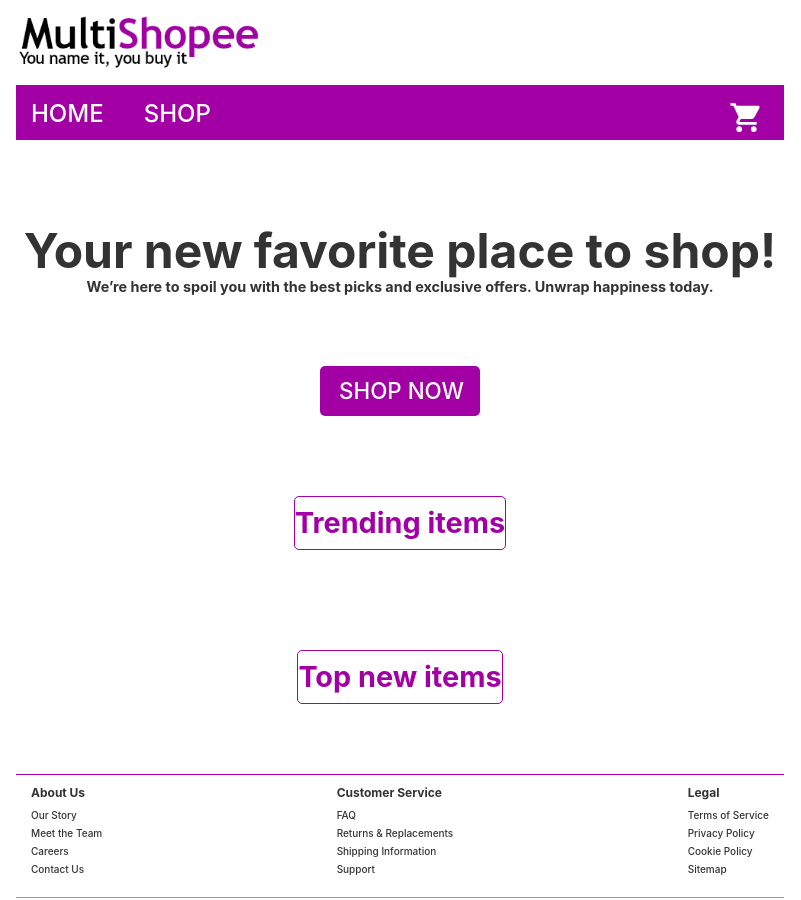
Test: Navbar component › Loads Shop component after click on the Shop button
The width and height of the screenshot is (801, 900).
// Simulate a click on the Shop button
Click the link with aria-label "Go to Shop Page" at x=177, y=114, box [144,99,211,128]
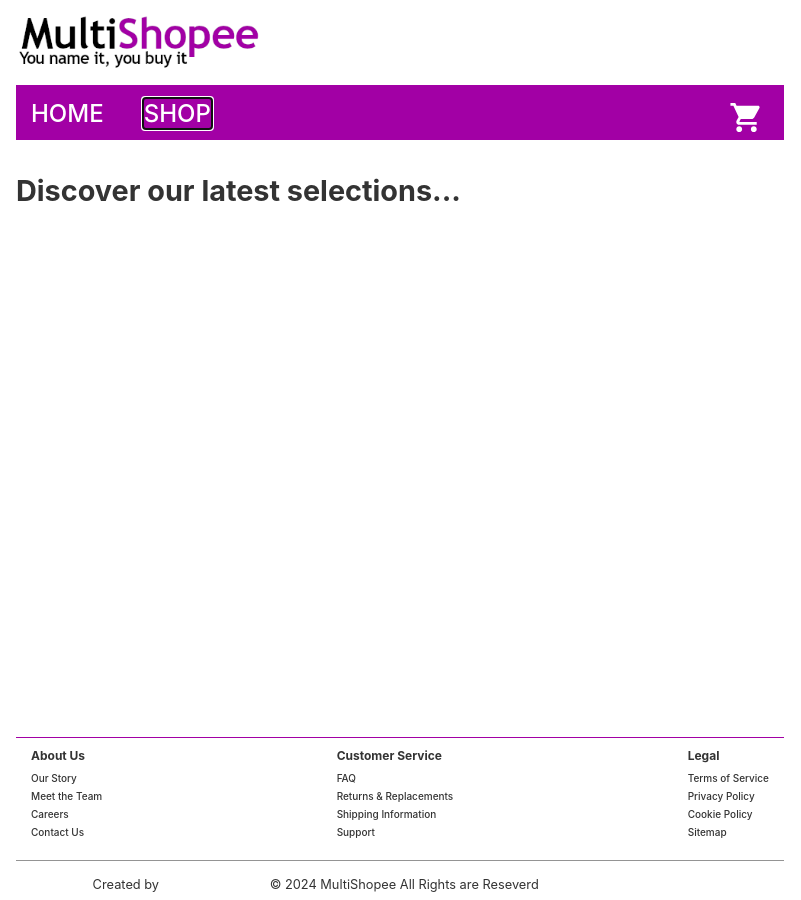
Expected: the heading "Discover our latest selections..." is shown, [16,173,461,208]
